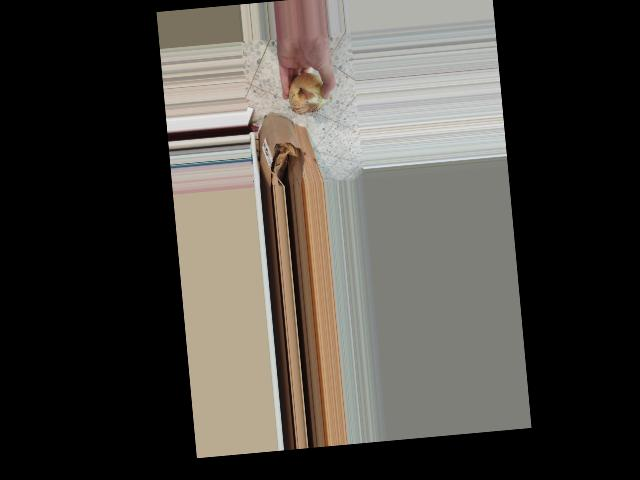onion: (285, 68, 334, 115)
